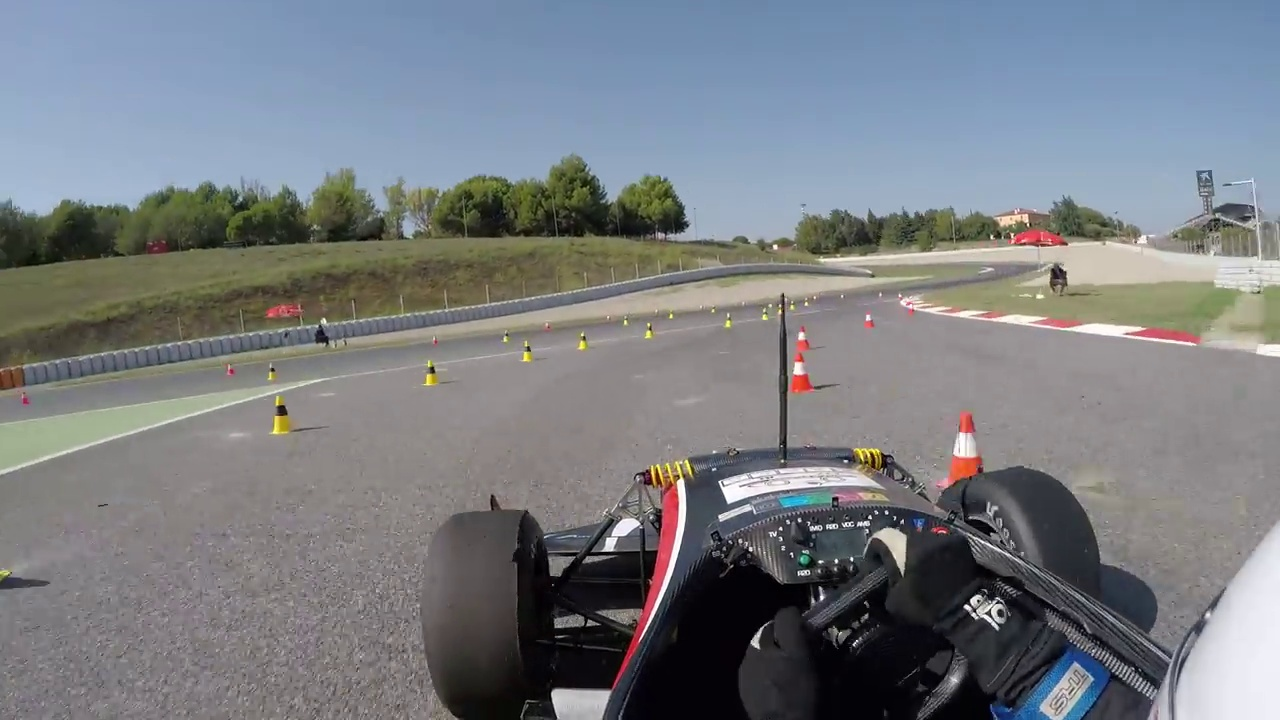Cone: (939, 408, 991, 488), (789, 350, 817, 398), (270, 393, 298, 436), (422, 358, 444, 390), (790, 323, 816, 350)
